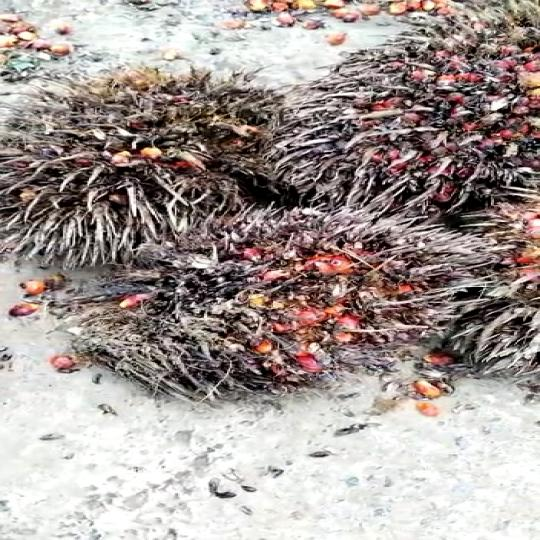terlalu masak: (36, 209, 524, 400), (0, 57, 299, 270), (296, 0, 540, 212)
